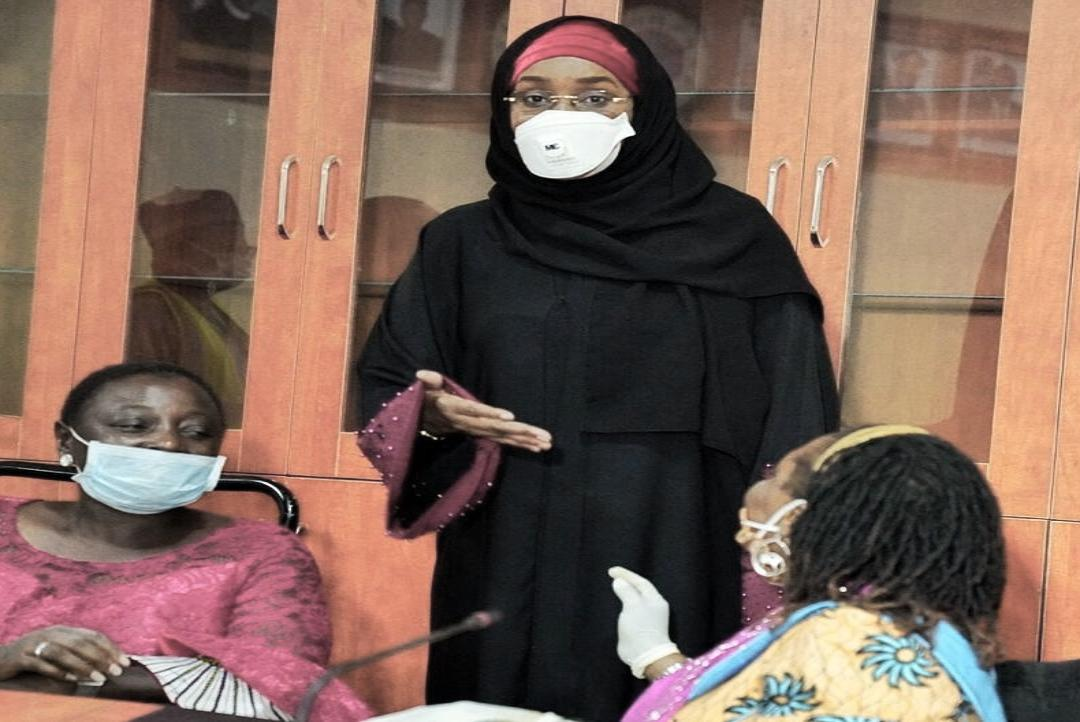mask_weared_incorrect: (54, 364, 228, 517)
